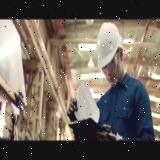Helmet: (97, 22, 122, 70)
